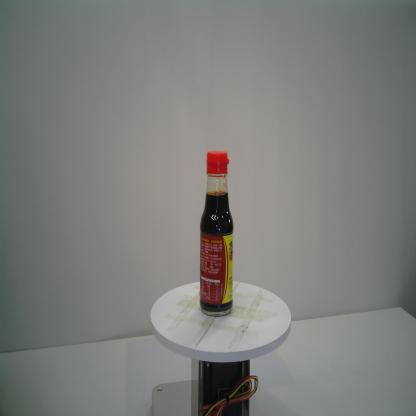Seasoner: (200, 150, 234, 318)
